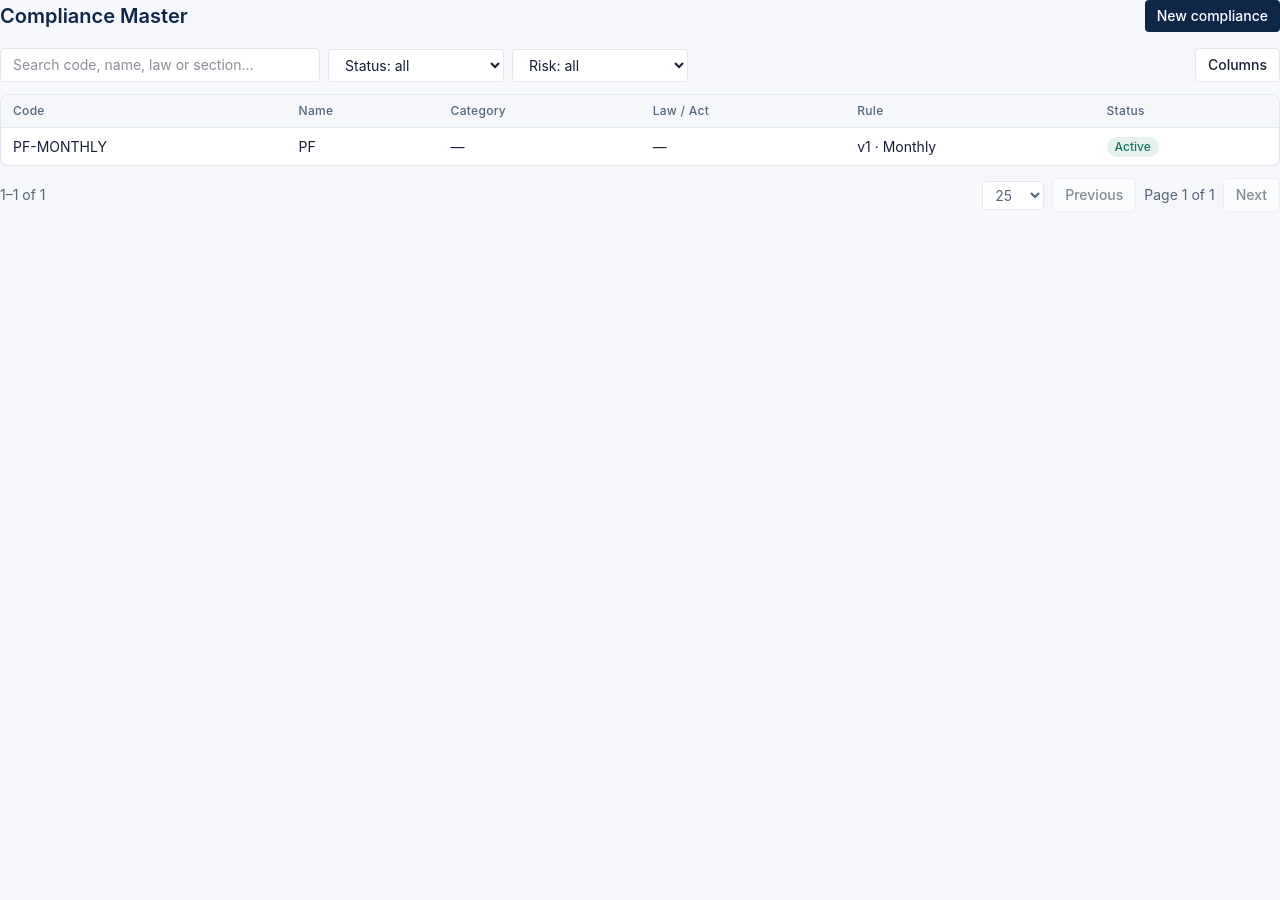
AdminRegister (Compliance Master) › blocks an empty create on the frontend: required messages, no request
Click the button "New compliance": [1212, 16] box [1145,0,1279,32]
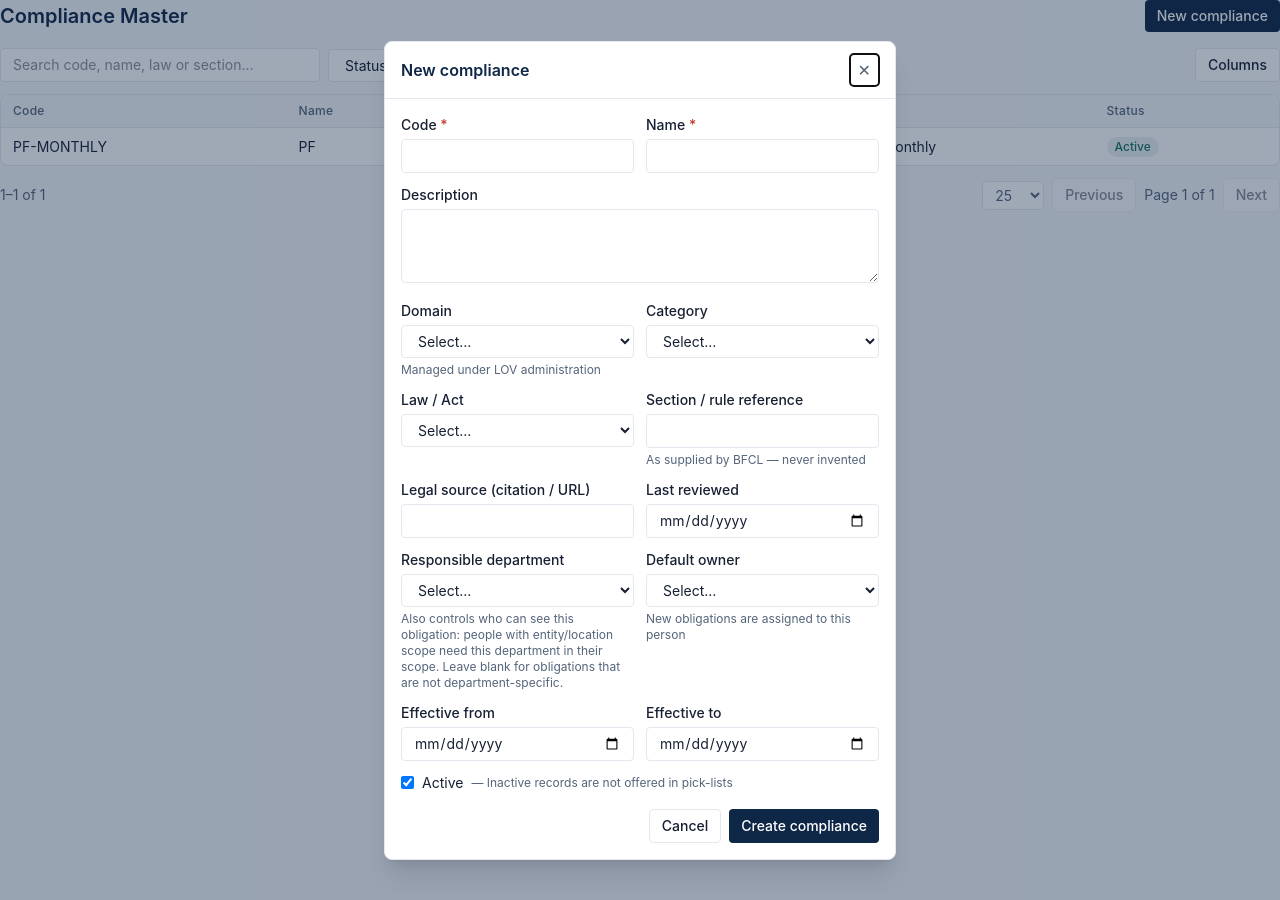
Click the button "Create compliance": [804, 826] box [729,808,879,842]
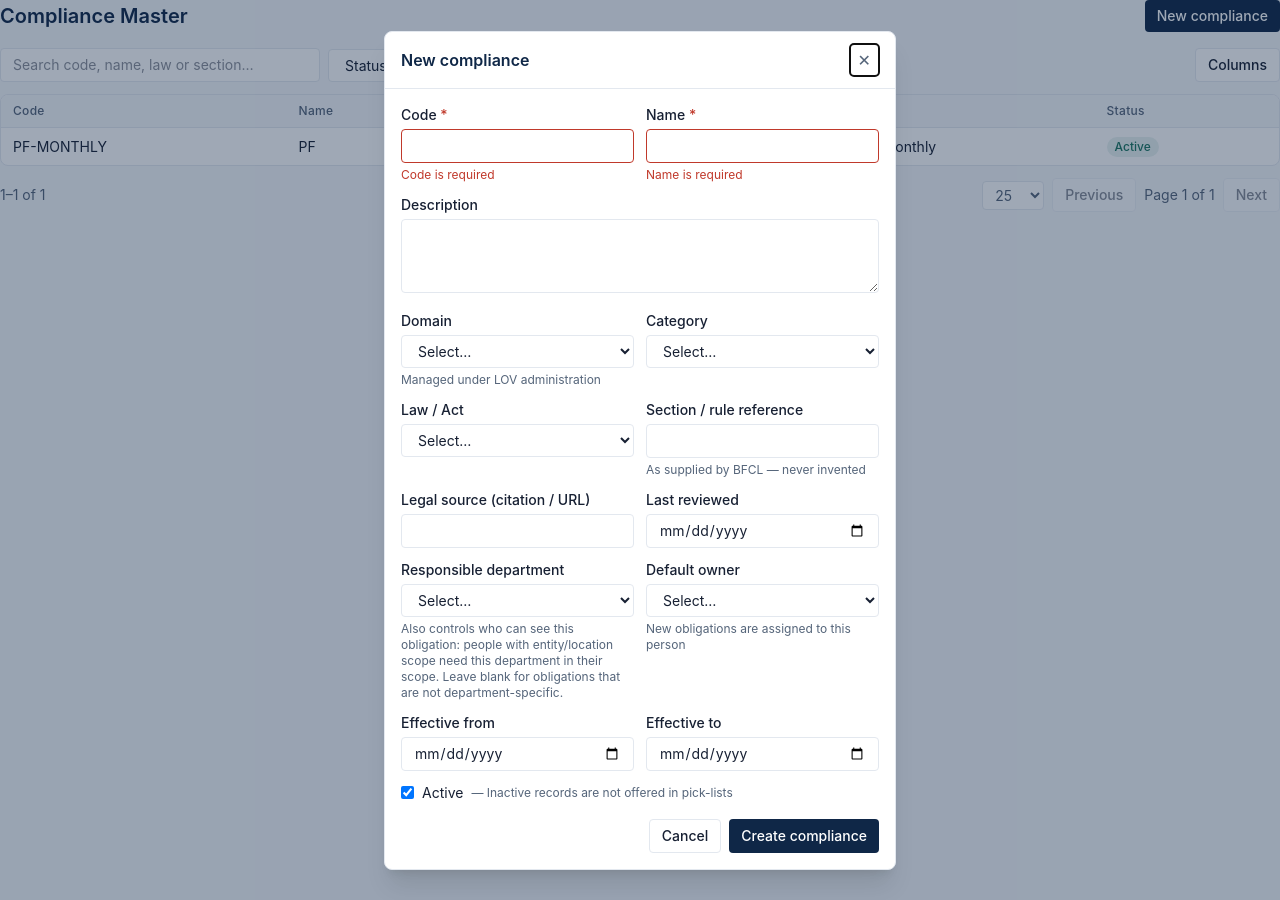
Expected: the text "Code is required" is shown, [401,166,495,182]
Expected: the text "Name is required" is shown, [646,166,743,182]
